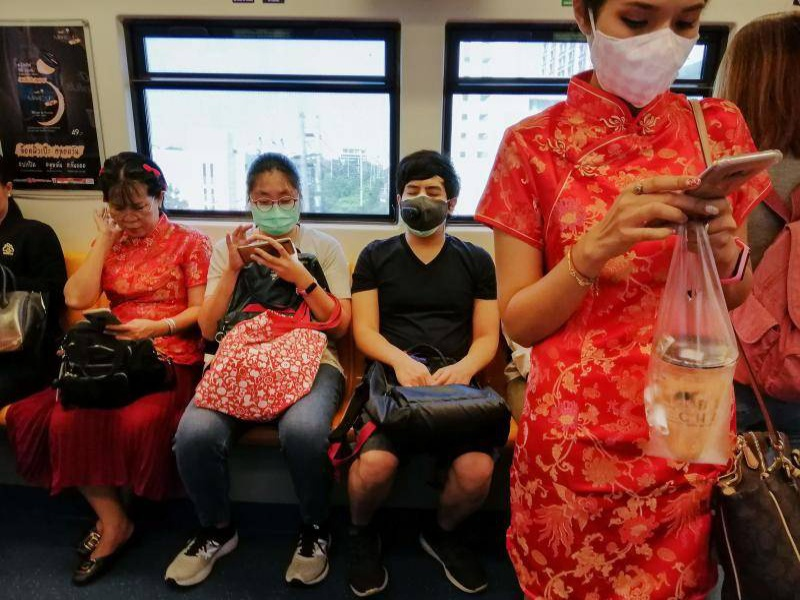ManaoArotava: (391, 149, 464, 248), (240, 154, 309, 247)
TsisyArotava: (92, 150, 172, 251)
